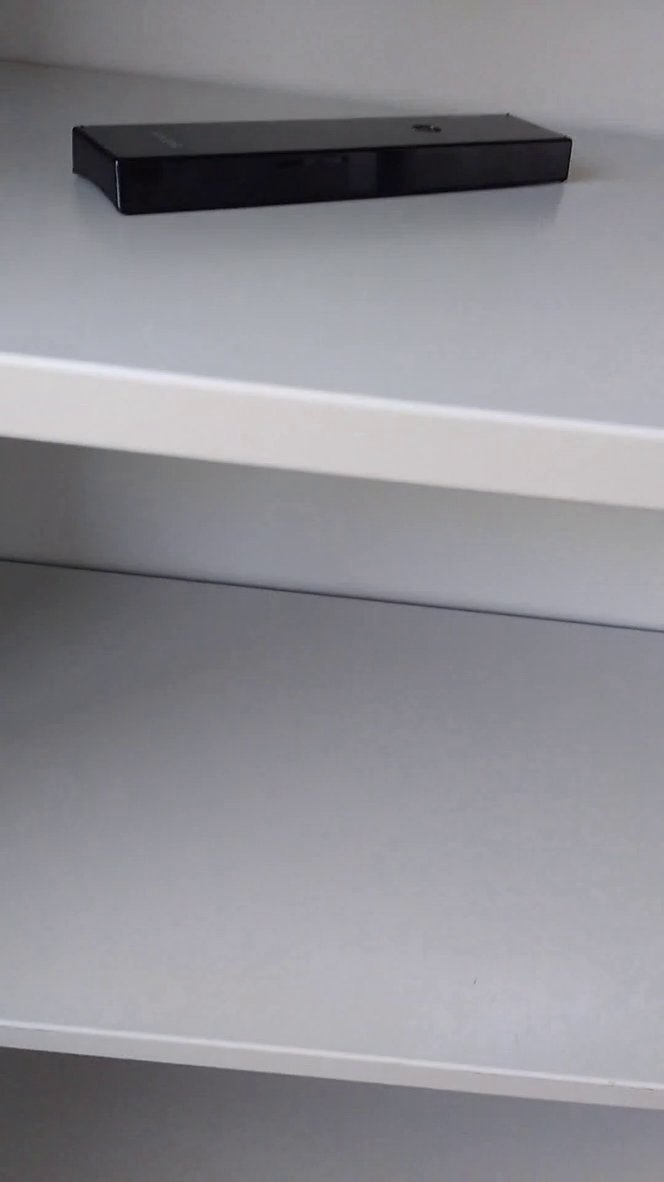remote: (56, 94, 591, 231)
